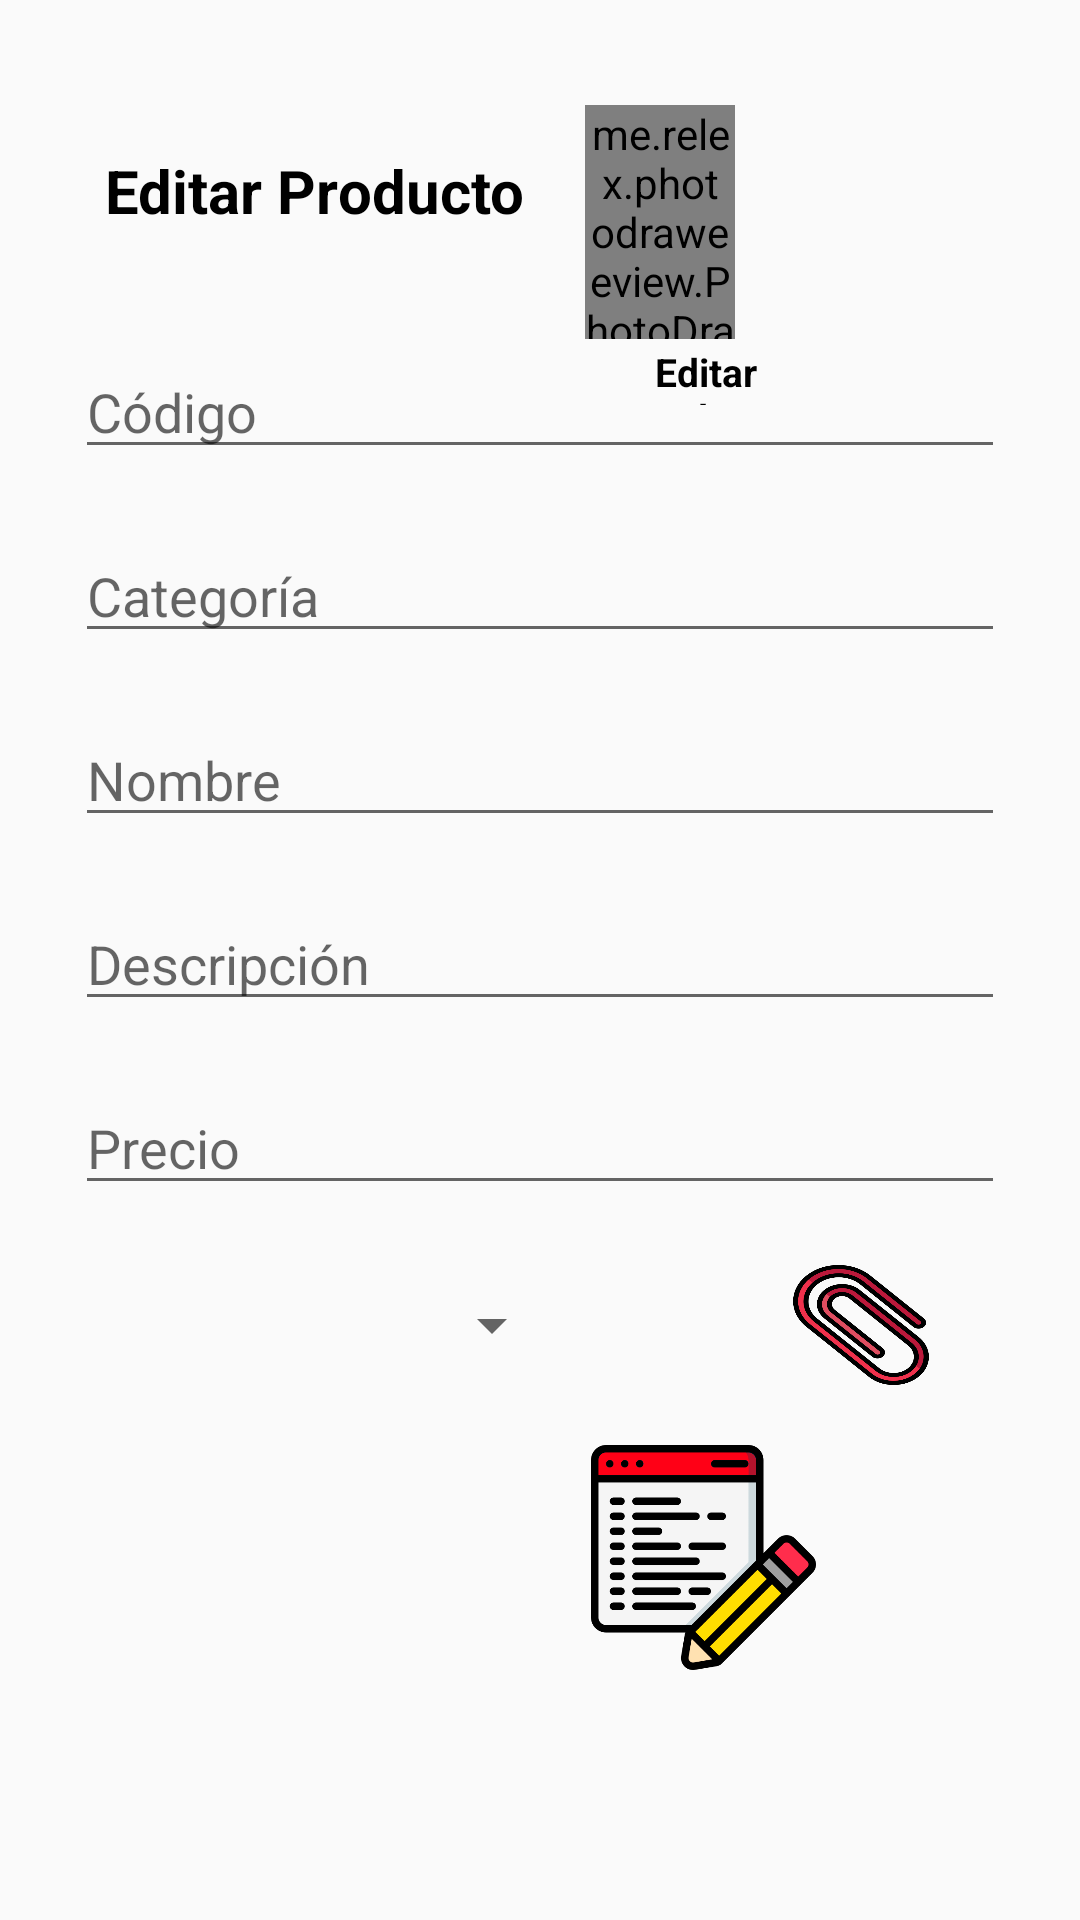

Icons on this 1080x1920 Android screen, each with its box as (x1, y1, x2, y2):
clip: (793, 1265, 929, 1385)
